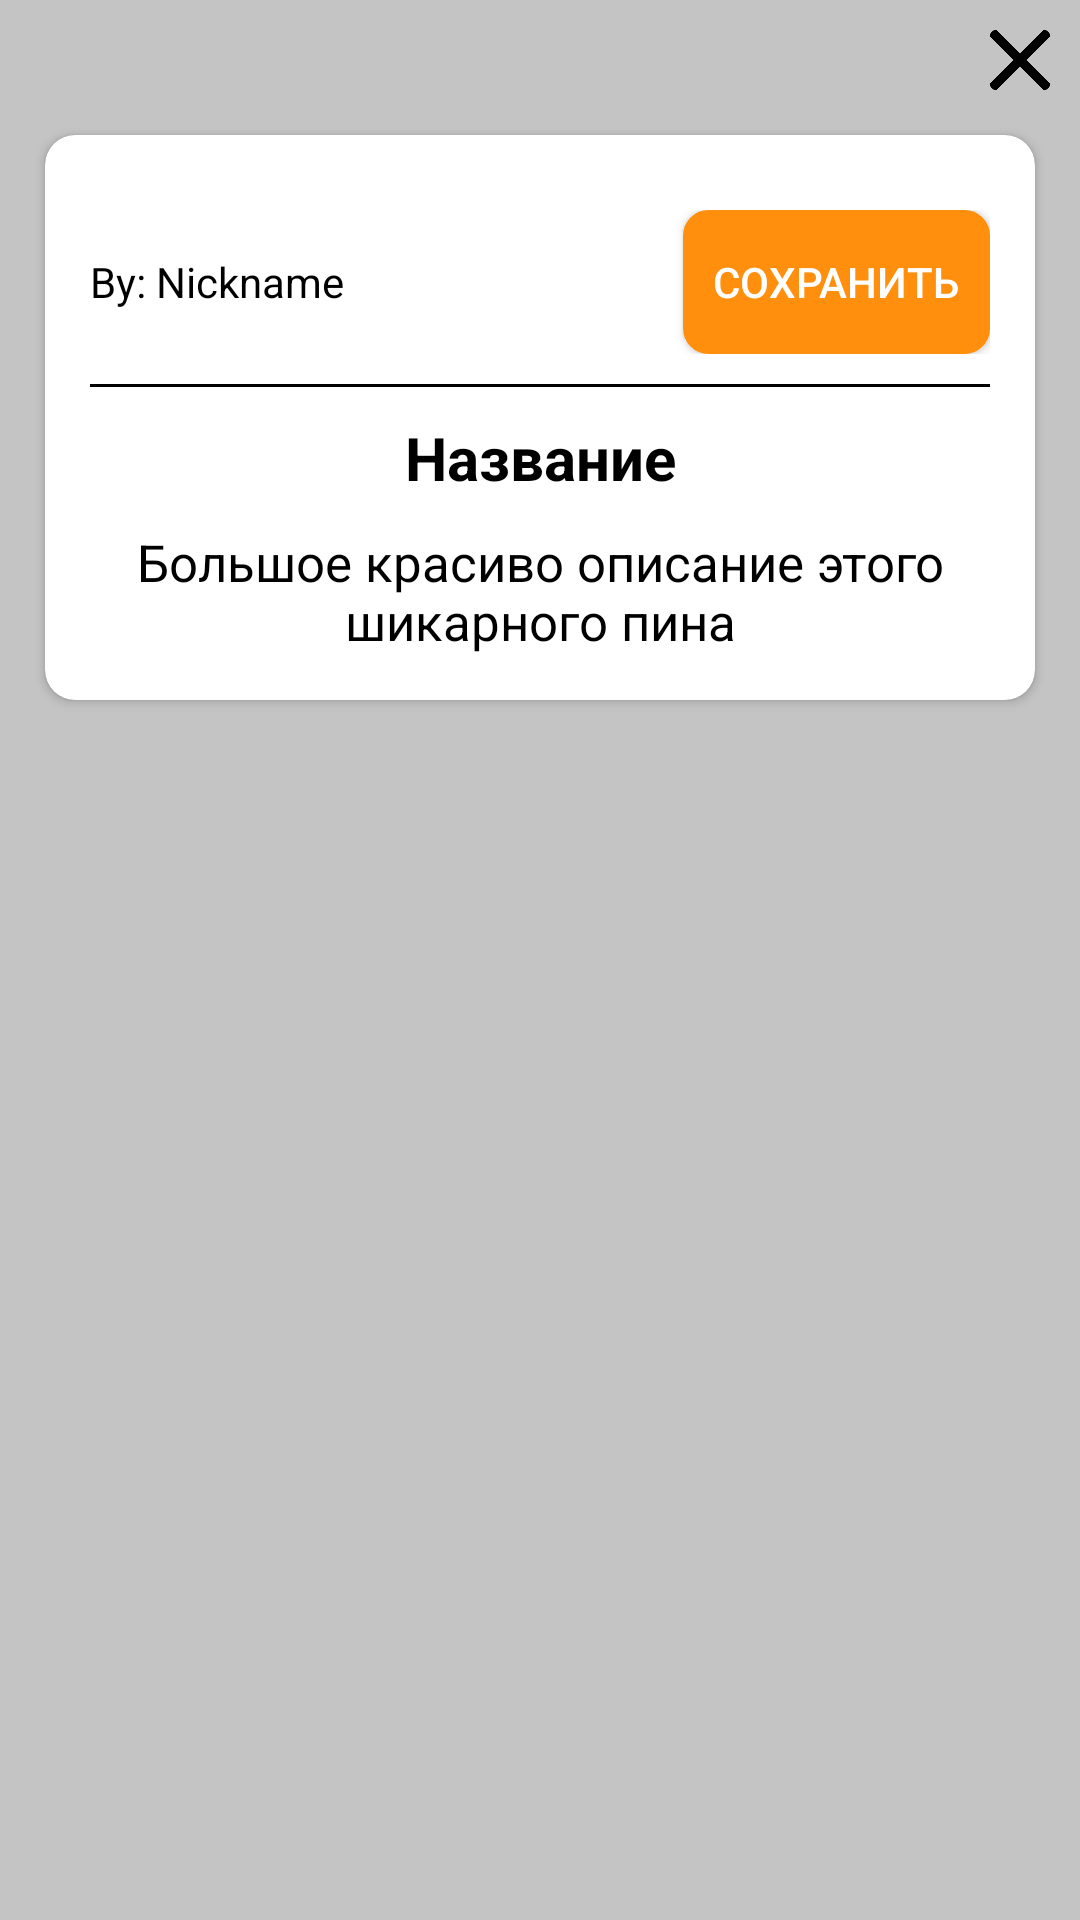

Icon click points for this 1080×1920 phone screenshot, format point (x, y):
close: point (1020, 60)
